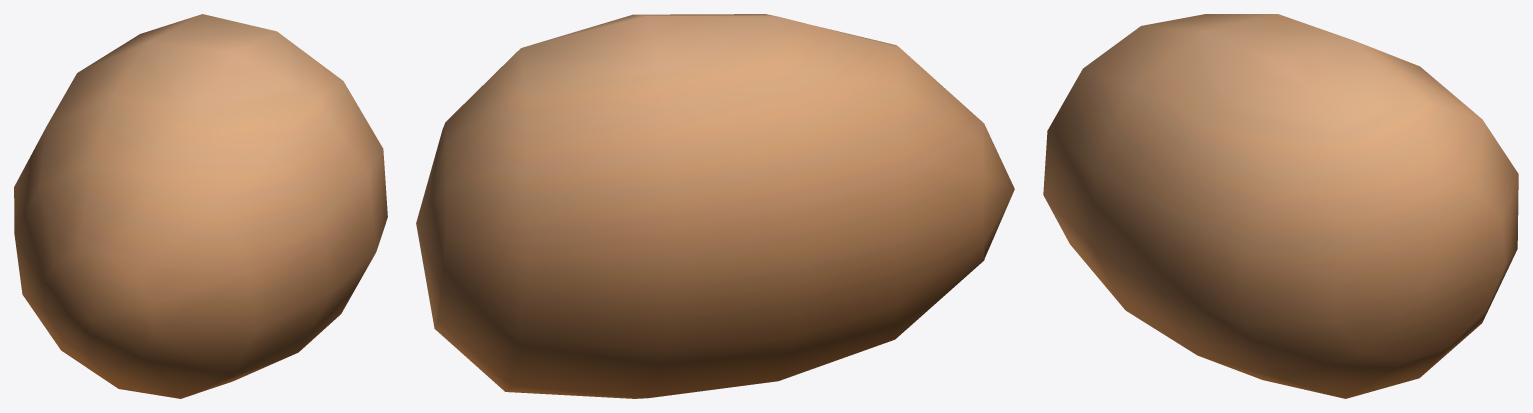
The model's file is potato.glb.
3 views of the same model, side by side, from view 1: azimuth 30°, elevation 25°; view 2: azimuth 150°, elevation 25°; view 3: azimuth 270°, elevation 25° (orthographic). The views are drawn at different scales.
Visible parts, largest first — view 1: SM_Potato2; view 2: SM_Potato2; view 3: SM_Potato2.
Boxes of the visible parts, left/top/right/bottom form: SM_Potato2: left=14, top=14, right=387, bottom=398; SM_Potato2: left=416, top=14, right=1014, bottom=398; SM_Potato2: left=1043, top=14, right=1518, bottom=398.
Size of the model in its own units: 0.3203 by 0.2345 by 0.328.
1 material, 1 textured.
